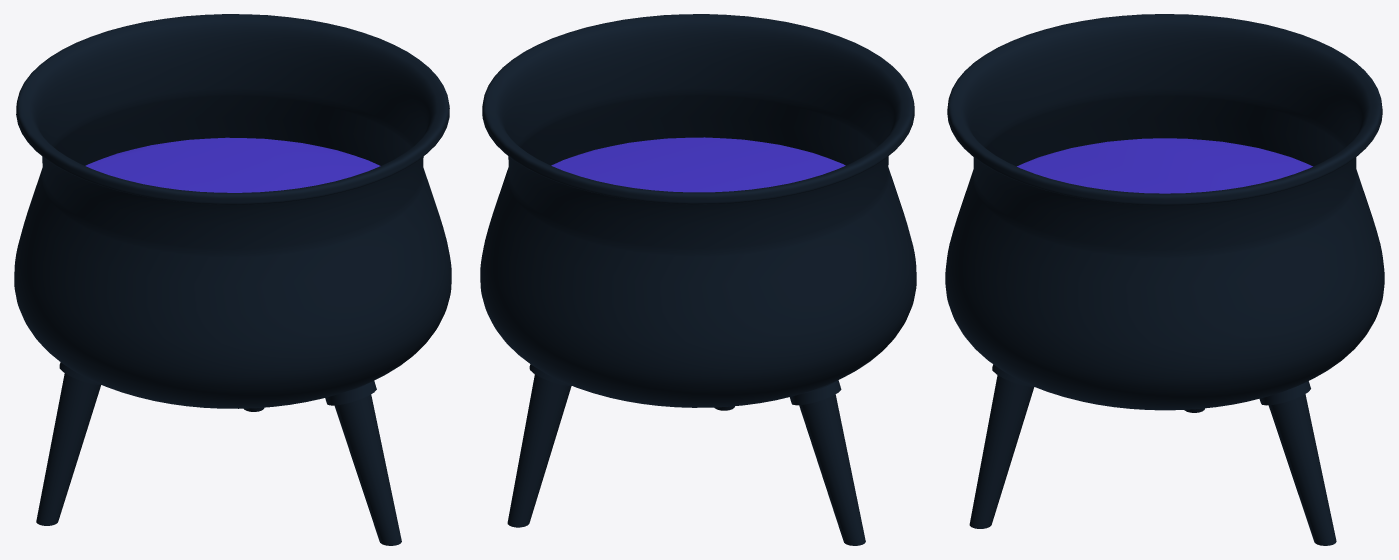
File: Kazan 1.fbx
The picture shows the model from 3 angles, left to right: view 1: azimuth 30°, elevation 25°; view 2: azimuth 150°, elevation 25°; view 3: azimuth 270°, elevation 25°; orthographic projection.
Visible parts, largest first — view 1: kazan, water; view 2: kazan, water; view 3: kazan, water.
Boxes of the visible parts, x1,y1,x2,y2 form: kazan: (14,14,451,545); water: (85,137,380,192); kazan: (480,14,916,545); water: (551,137,845,192); kazan: (945,14,1384,545); water: (1017,138,1312,193).
Bounding box in the file's own units: 1130 × 1099 × 1130.
